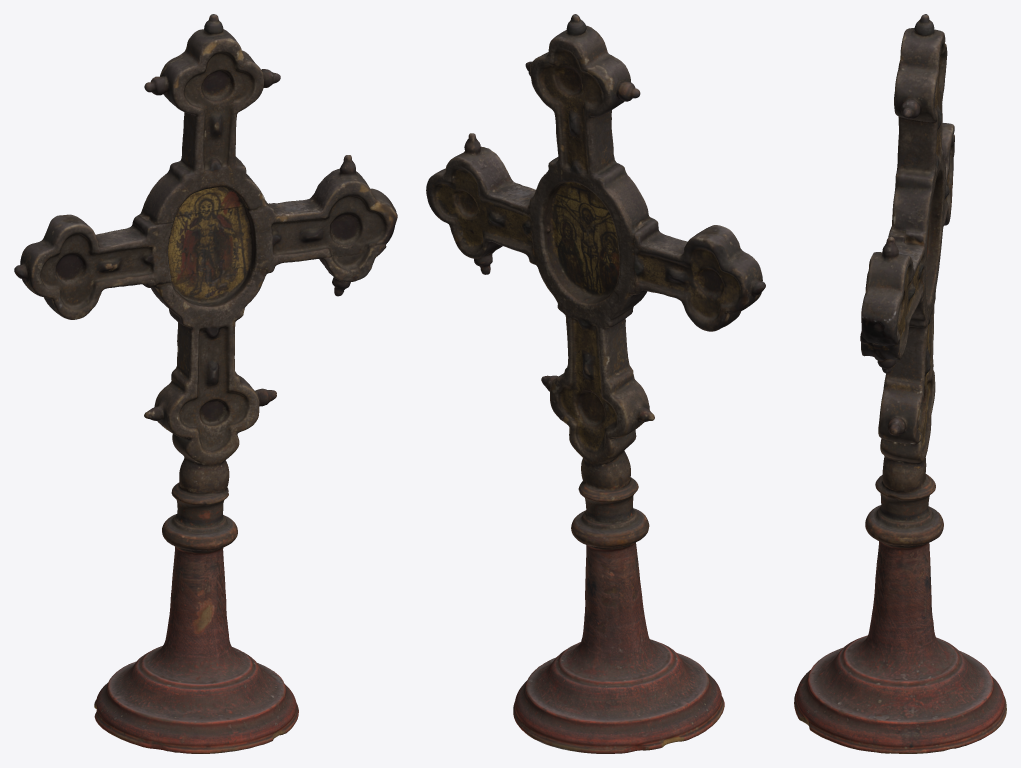
File: altar_cross.glb
3 renders of one model, left to right at view 1: azimuth 30°, elevation 25°; view 2: azimuth 150°, elevation 25°; view 3: azimuth 270°, elevation 25°, orthographic. The views are drawn at different scales.
Parts seen in each view (by area): view 1: Object_3, Object_4, Object_5; view 2: Object_3, Object_4, Object_5; view 3: Object_4, Object_3, Object_5.
Boxes of the visible parts, x1,y1,x2,y2 form: Object_3: (21,14,390,550); Object_4: (14,51,397,753); Object_5: (18,53,349,751); Object_3: (426,14,762,547); Object_4: (426,52,765,752); Object_5: (507,61,759,753); Object_4: (794,47,1003,751); Object_3: (865,14,954,546); Object_5: (794,47,1006,753).
Size of the model in its own units: 303 by 561 by 152.
Materials: 1 (1 with a texture image).
